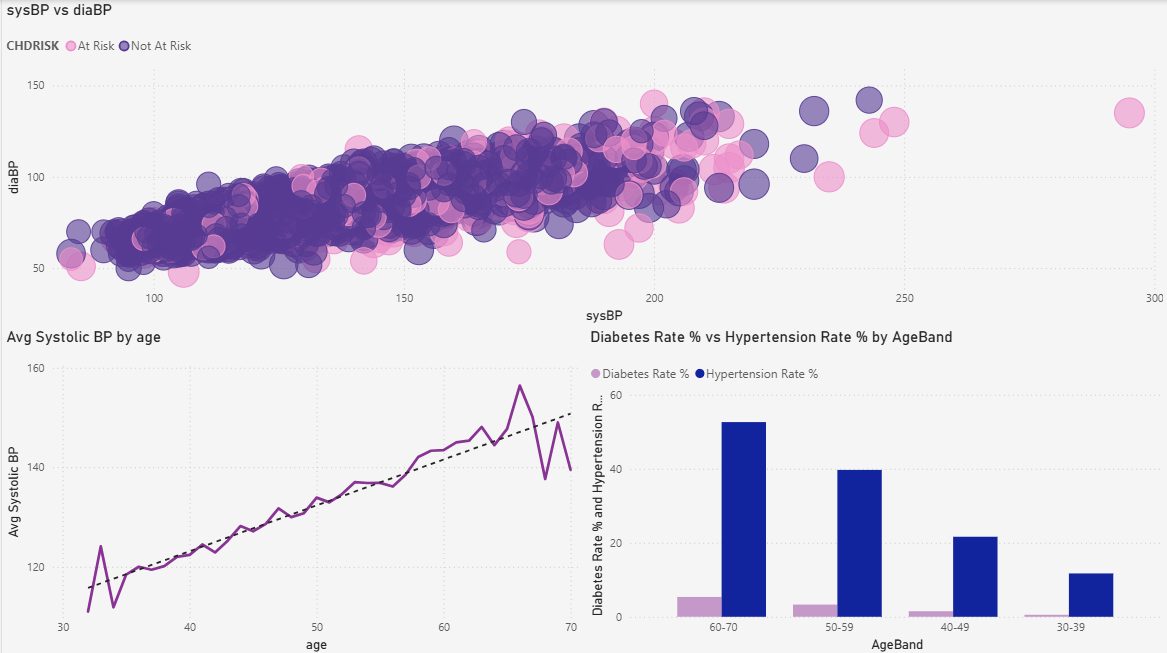

The dashboard page shown, as its layout file describes it:
{"tool":"powerbi","page":{"name":"Blood Pressure & Risk","canvas":[1280,720],"ordinal":1},"visuals":[{"type":"scatterChart","title":"sysBP vs diaBP","fields":{"X":["framingham.sysBP"],"Y":["framingham.diaBP"],"Series":["framingham.CHDRISK"],"Size":["Avg(framingham.age)"]},"box":[0,0,1280.3,359.6],"z":0},{"type":"lineChart","fields":{"Category":["framingham.age"],"Y":["framingham.Avg Systolic BP"]},"box":[0,359.6,639.4,361.1],"z":1000},{"type":"clusteredColumnChart","title":"Diabetes Rate % vs Hypertension Rate % by AgeBand","fields":{"Category":["framingham.AgeBand"],"Y":["framingham.Diabetes Rate %","framingham.Hypertension Rate %"]},"box":[640.9,359.6,639.4,361.1],"z":2000}]}

Visuals, with their boxes in screenshot pixels (x1, y1, x2, y2), scaled from the page's 1280x720 canvas onto the 1167x653 screenshot:
"sysBP vs diaBP" scatterChart: l=0, t=0, r=1166, b=326
lineChart - framingham.age x framingham.Avg Systolic BP: l=0, t=326, r=583, b=652
"Diabetes Rate % vs Hypertension Rate % by AgeBand" clusteredColumnChart: l=584, t=326, r=1166, b=652
